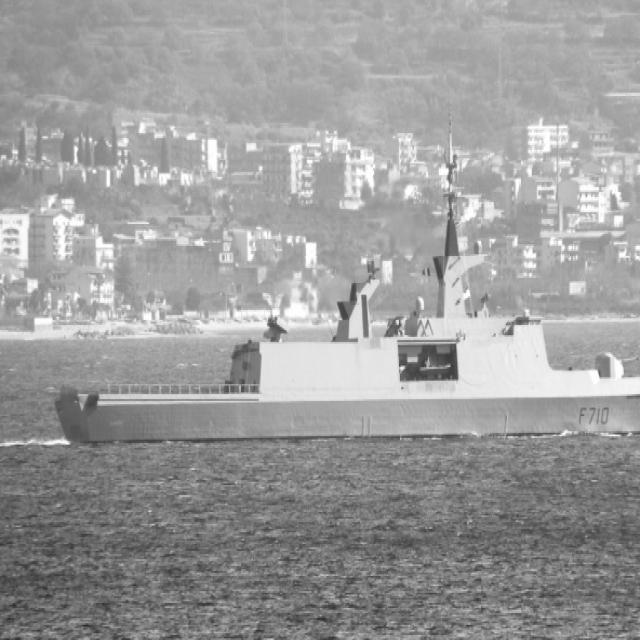Fragata: (45, 146, 640, 452)
